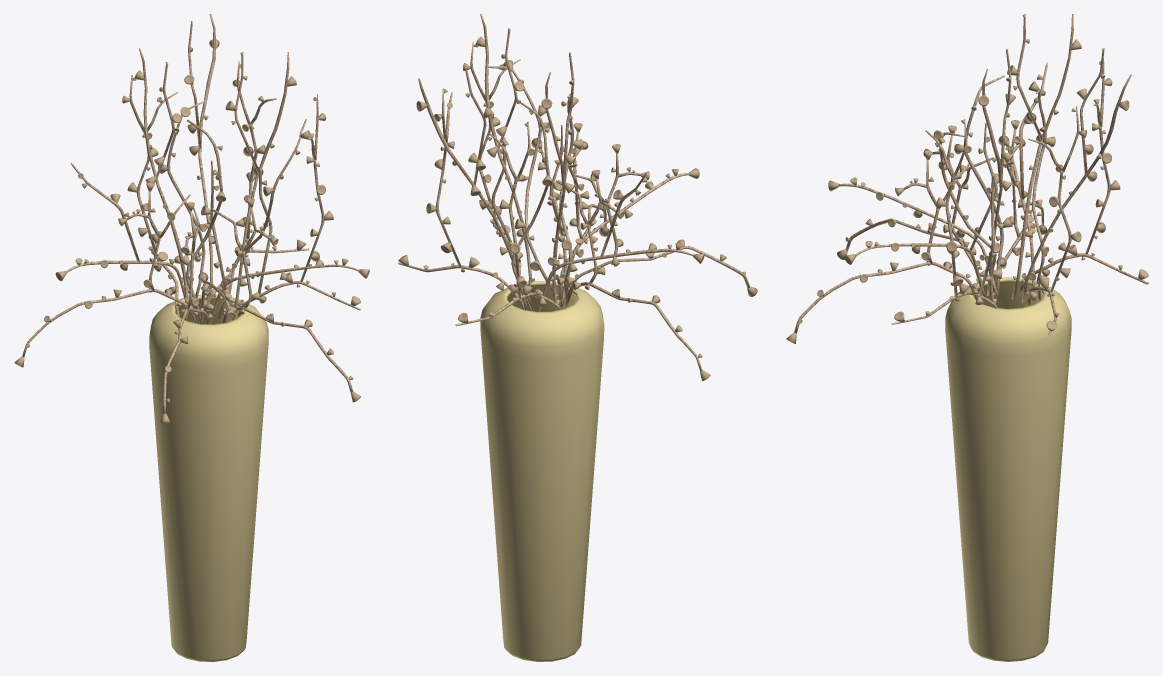
3 views of the same model, side by side, from view 1: azimuth 30°, elevation 25°; view 2: azimuth 150°, elevation 25°; view 3: azimuth 270°, elevation 25° (orthographic). The views are drawn at different scales.
Parts seen in each view (by area): view 1: Vase_low_07 - Default_0, Line046_03 - Default_0, Line032_03 - Default_0, Line013_03 - Default_0, Line033_03 - Default_0, Line001_03 - Default_0, Line012_03 - Default_0, Line047_03 - Default_0, Line031_03 - Default_0, Line030_03 - Default_0; view 2: Vase_low_07 - Default_0, Line013_03 - Default_0, Line046_03 - Default_0, Line047_03 - Default_0, Line032_03 - Default_0, Line003_03 - Default_0, Line012_03 - Default_0, Line044_03 - Default_0, Line001_03 - Default_0, Line045_03 - Default_0, Line033_03 - Default_0; view 3: Vase_low_07 - Default_0, Line032_03 - Default_0, Line046_03 - Default_0, Line030_03 - Default_0, Line013_03 - Default_0, Line012_03 - Default_0, Line033_03 - Default_0, Line045_03 - Default_0, Line047_03 - Default_0.
Boxes of the visible parts, left/top/right/bottom form: Vase_low_07 - Default_0: left=149, top=294, right=268, bottom=661; Line046_03 - Default_0: left=198, top=14, right=215, bottom=311; Line032_03 - Default_0: left=139, top=48, right=188, bottom=320; Line013_03 - Default_0: left=230, top=52, right=289, bottom=320; Line033_03 - Default_0: left=185, top=119, right=222, bottom=324; Line001_03 - Default_0: left=22, top=288, right=197, bottom=357; Line012_03 - Default_0: left=167, top=100, right=206, bottom=308; Line047_03 - Default_0: left=217, top=119, right=306, bottom=318; Line031_03 - Default_0: left=208, top=264, right=358, bottom=324; Line030_03 - Default_0: left=222, top=307, right=352, bottom=392; Vase_low_07 - Default_0: left=480, top=281, right=604, bottom=661; Line013_03 - Default_0: left=480, top=14, right=531, bottom=305; Line046_03 - Default_0: left=418, top=78, right=533, bottom=309; Line047_03 - Default_0: left=488, top=66, right=552, bottom=291; Line032_03 - Default_0: left=545, top=72, right=565, bottom=310; Line003_03 - Default_0: left=537, top=248, right=693, bottom=311; Line012_03 - Default_0: left=511, top=100, right=549, bottom=310; Line044_03 - Default_0: left=568, top=246, right=749, bottom=302; Line001_03 - Default_0: left=563, top=282, right=701, bottom=370; Line045_03 - Default_0: left=559, top=173, right=689, bottom=306; Line033_03 - Default_0: left=559, top=93, right=573, bottom=304; Vase_low_07 - Default_0: left=945, top=277, right=1071, bottom=661; Line032_03 - Default_0: left=1011, top=14, right=1073, bottom=299; Line046_03 - Default_0: left=1022, top=74, right=1131, bottom=302; Line030_03 - Default_0: left=794, top=261, right=977, bottom=333; Line013_03 - Default_0: left=982, top=69, right=1002, bottom=304; Line012_03 - Default_0: left=1031, top=89, right=1046, bottom=301; Line033_03 - Default_0: left=963, top=75, right=1004, bottom=295; Line045_03 - Default_0: left=838, top=183, right=998, bottom=297; Line047_03 - Default_0: left=939, top=132, right=996, bottom=295.
Size of the model in its own units: 0.3697 by 0.7 by 0.3738.
Materials: 3 (2 with a texture image).
